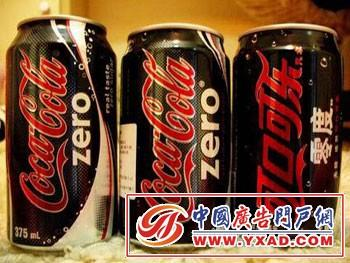coke_zero: (224, 17, 348, 259), (3, 9, 121, 258)
